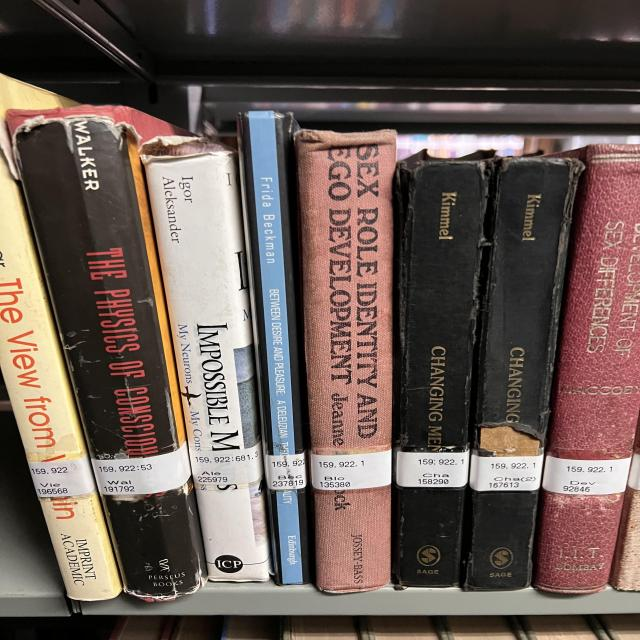Book: (8, 105, 207, 601), (140, 136, 270, 581), (0, 158, 122, 600), (463, 156, 583, 590), (533, 145, 640, 594), (295, 130, 395, 594), (393, 151, 493, 588), (238, 111, 310, 585)
Label: (92, 442, 190, 495), (542, 456, 632, 495), (310, 450, 392, 490), (190, 444, 263, 485), (28, 455, 95, 498), (397, 451, 470, 488), (470, 455, 543, 491), (265, 452, 307, 490)
